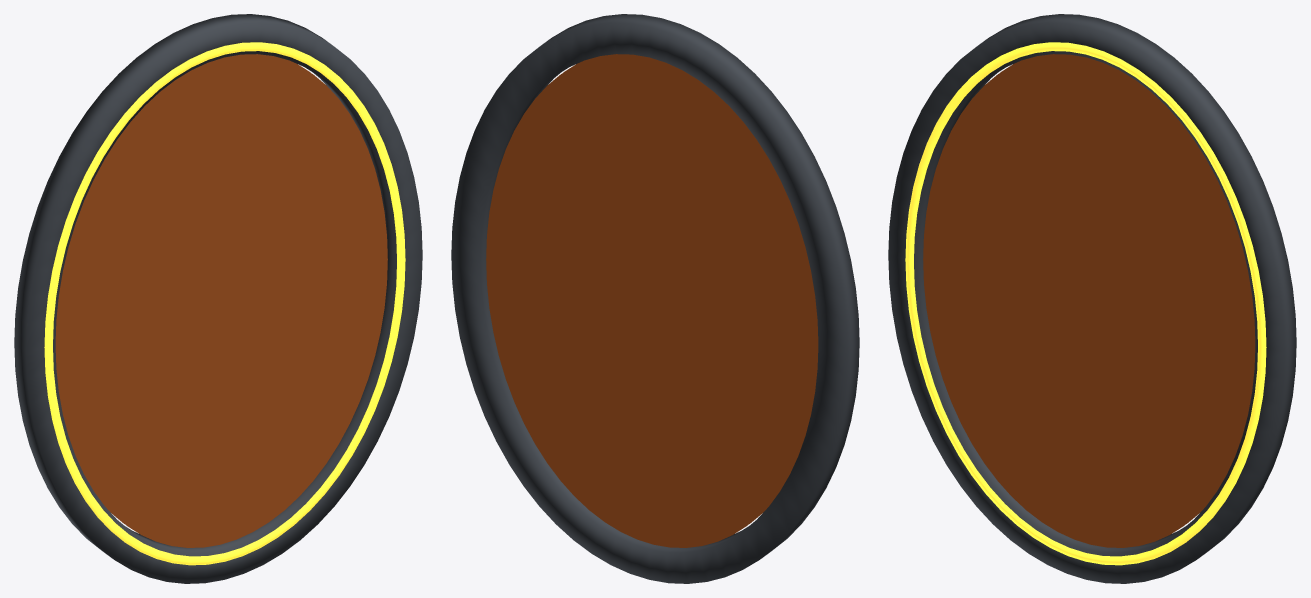
The model's file is Orange_Portal_Frame.fbx.
3 views of the same model, side by side, from view 1: azimuth 30°, elevation 25°; view 2: azimuth 150°, elevation 25°; view 3: azimuth 330°, elevation 25° (orthographic).
Parts seen in each view (by area): view 1: CGS_Portal_ORANGE_ViewPlane, CGS_Portal_ORANGE_Frame, CGS_Portal_ORANGE_Glow; view 2: CGS_Portal_ORANGE_ViewPlane, CGS_Portal_ORANGE_Frame; view 3: CGS_Portal_ORANGE_ViewPlane, CGS_Portal_ORANGE_Frame, CGS_Portal_ORANGE_Glow.
Boxes of the visible parts, x1,y1,x2,y2 form: CGS_Portal_ORANGE_ViewPlane: [55, 54, 387, 547]; CGS_Portal_ORANGE_Frame: [14, 14, 422, 583]; CGS_Portal_ORANGE_Glow: [44, 42, 405, 565]; CGS_Portal_ORANGE_ViewPlane: [486, 54, 818, 547]; CGS_Portal_ORANGE_Frame: [451, 14, 859, 583]; CGS_Portal_ORANGE_ViewPlane: [923, 54, 1255, 547]; CGS_Portal_ORANGE_Frame: [888, 14, 1296, 583]; CGS_Portal_ORANGE_Glow: [905, 42, 1266, 565].
Size of the model in its own units: 300 by 400 by 16.9.
